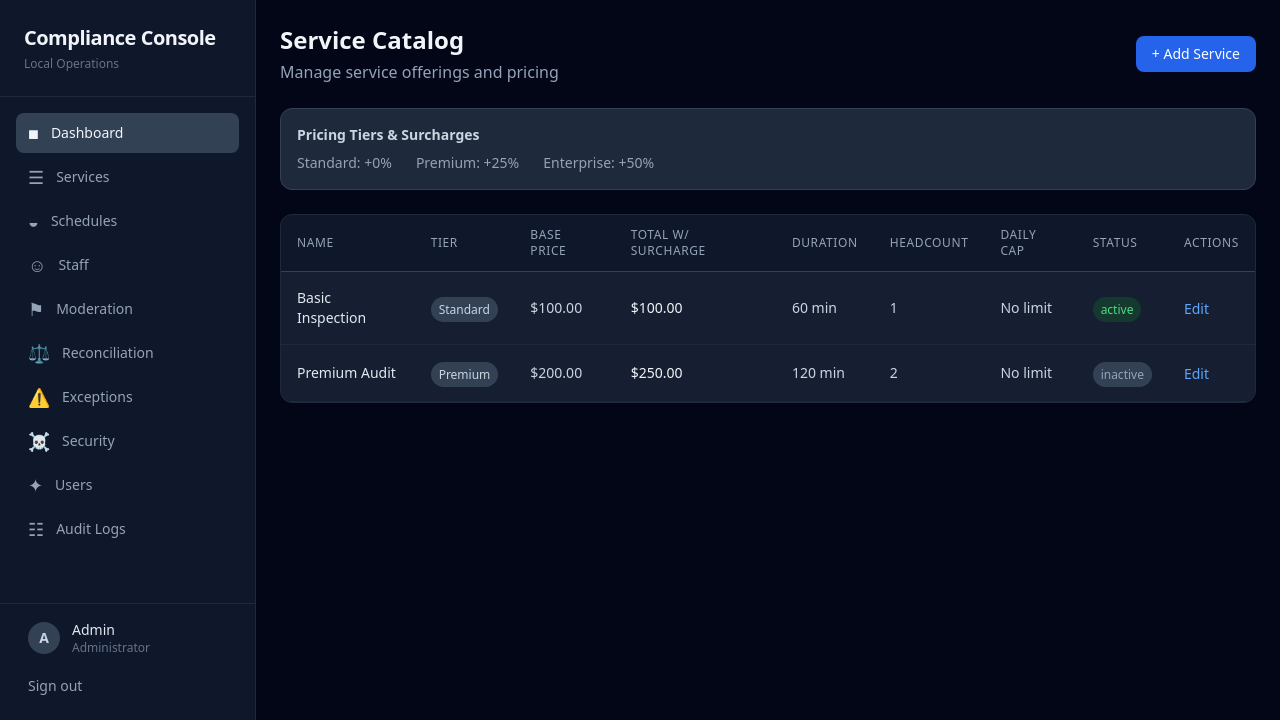
Test: ServiceCatalog › opens add modal on button click
Click the button "+ Add Service".
click(1196, 54)  # box [1136,36,1256,72]
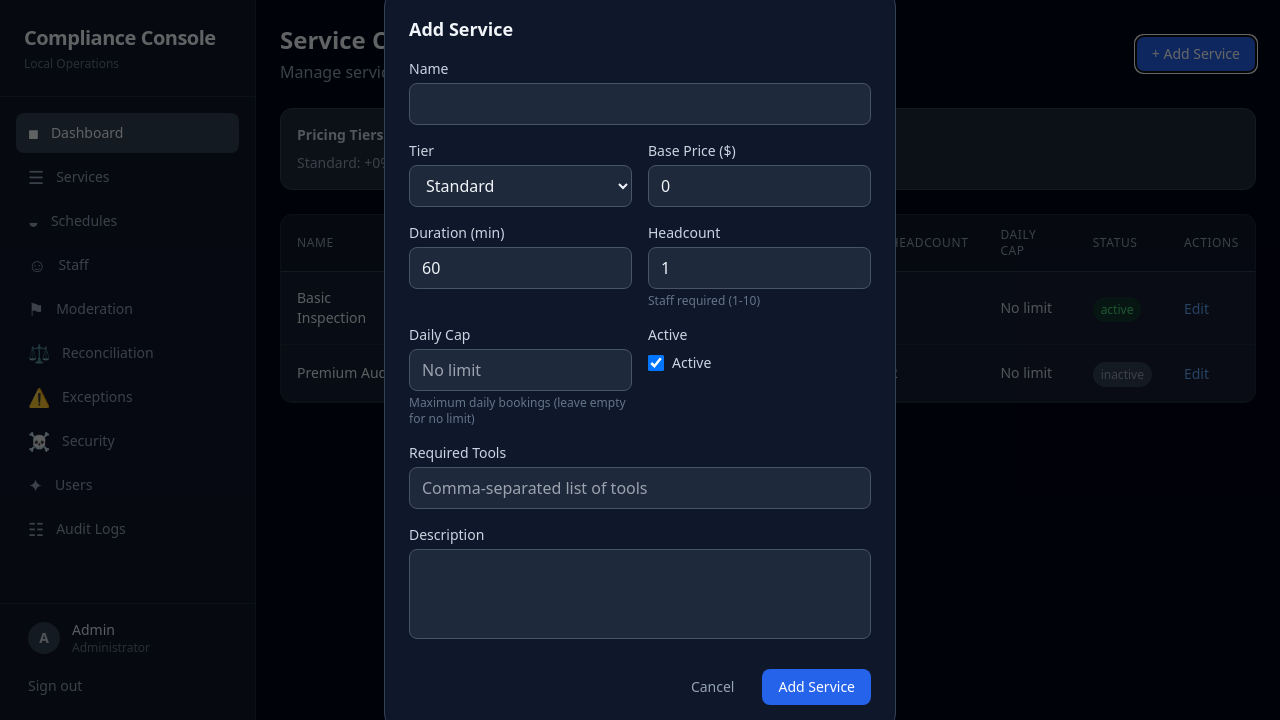
Check: the 1st field is shown, box [409,83,871,125]
